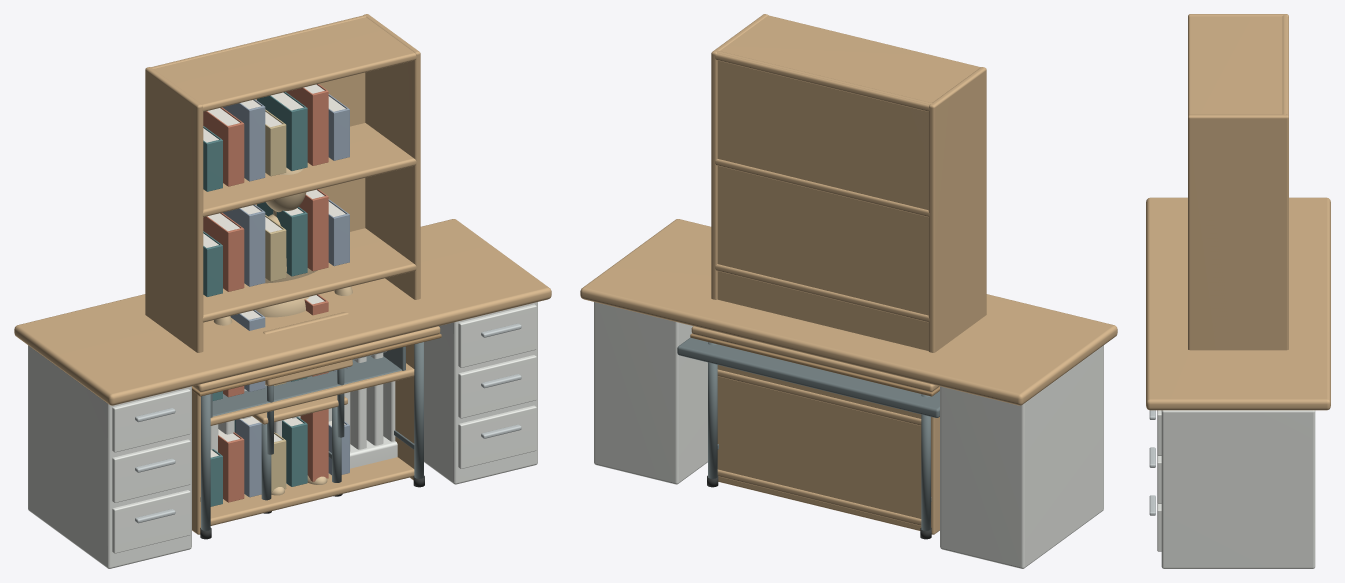
Rendered from furniture.glb.
The picture shows the model from 3 angles, left to right: view 1: azimuth 30°, elevation 25°; view 2: azimuth 150°, elevation 25°; view 3: azimuth 270°, elevation 25°; orthographic projection. The views are drawn at different scales.
Visible parts, largest first — view 1: Cabinet, Workbench, Desk, Radiator, Chair, Mannequin; view 2: Cabinet, Workbench, Desk; view 3: Workbench, Cabinet.
Boxes of the visible parts, x1,y1,x2,y2 form: Cabinet: (145,14,420,534); Workbench: (14,219,551,568); Desk: (192,326,441,539); Radiator: (210,351,397,499); Chair: (252,312,352,513); Mannequin: (213,167,352,495); Cabinet: (711,14,986,534); Workbench: (580,219,1117,568); Desk: (690,326,939,539); Workbench: (1146,197,1330,568); Cabinet: (1188,14,1288,350).
Bounding box in the file's own units: 2.2 × 2.04 × 0.84.
